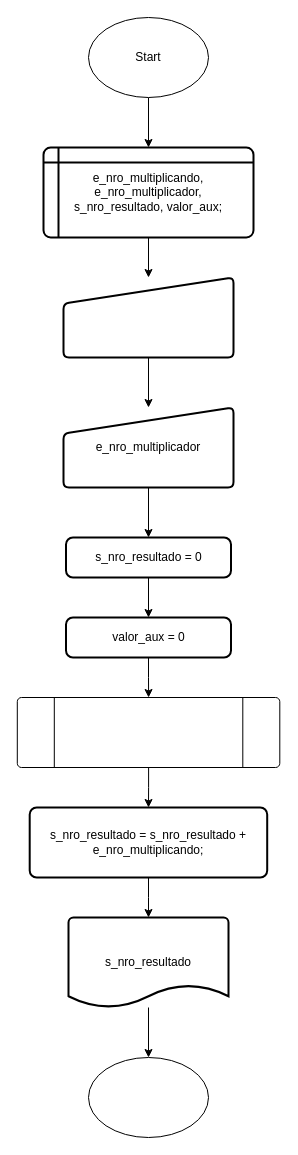
The diagram is 298 pixels wide and 1155 high, and some of its shapes have lost their labels. Here are the shapes that lost their labels. From the top down, the centre of each, then its label:
At pixel 148 317: "e_nro_multiplicando".
At pixel 148 732: "for(valor_aux = 0; valor_aux < e_nro_multiplicador; valor_aux++)".
At pixel 148 1097: "end".
